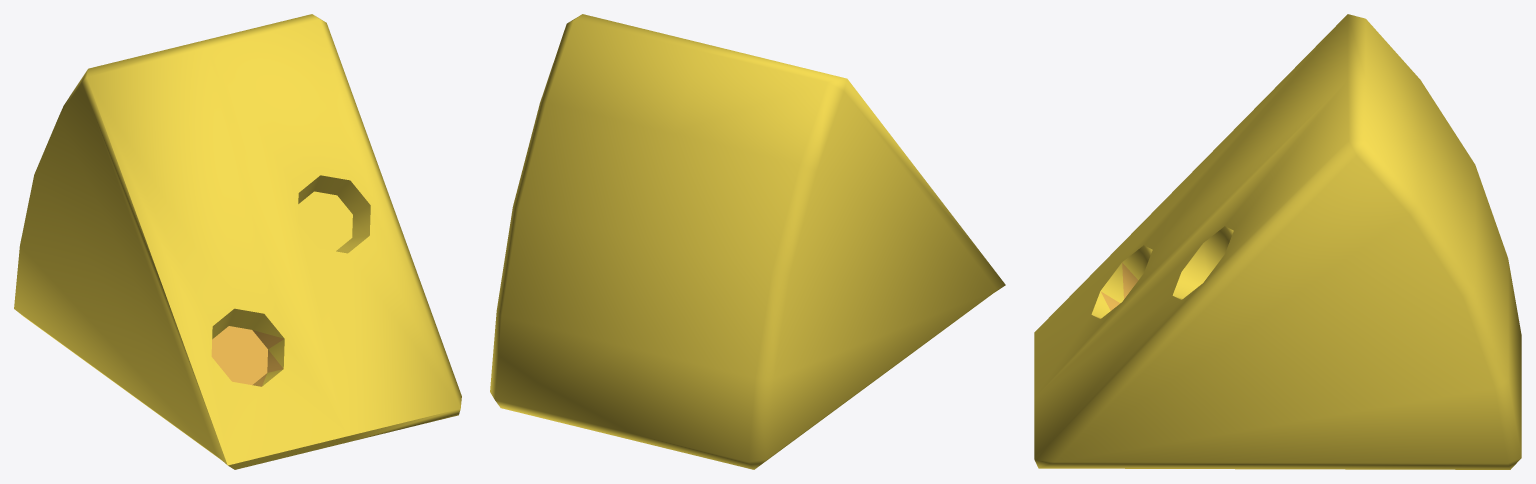
The model's file is itch_tiny_pleasant_picnic_cheese_a.glb.
3 views of the same model, side by side, from view 1: azimuth 30°, elevation 25°; view 2: azimuth 150°, elevation 25°; view 3: azimuth 270°, elevation 25° (orthographic). The views are drawn at different scales.
Parts seen in each view (by area): view 1: cheese_A; view 2: cheese_A; view 3: cheese_A.
Boxes of the visible parts, x1,y1,x2,y2 form: cheese_A: (14,14,461,469); cheese_A: (490,14,1005,469); cheese_A: (1034,14,1521,469).
Size of the model in its own units: 0.2719 by 0.3131 by 0.42.
